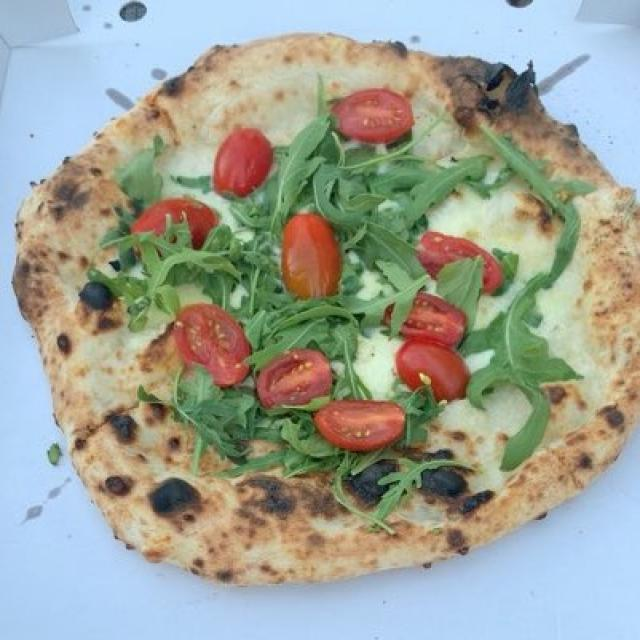Pizza: (5, 22, 640, 596)
